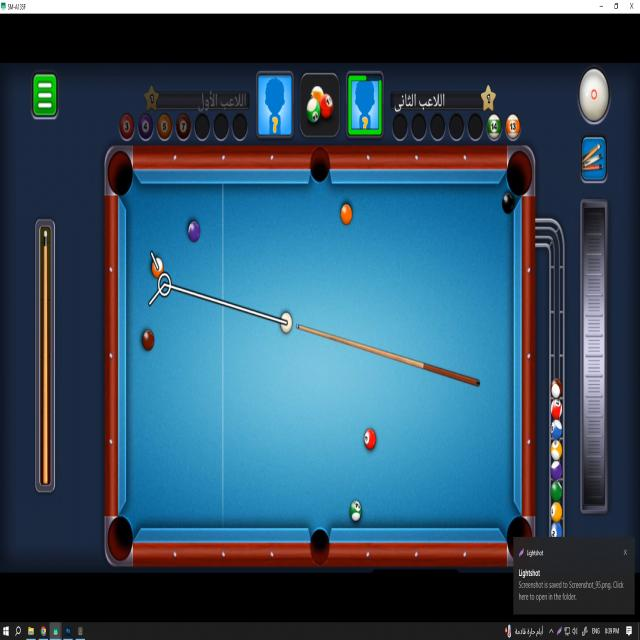object_ball: (502, 192, 514, 213), (364, 429, 376, 449), (188, 222, 200, 242), (341, 204, 352, 225), (350, 501, 361, 522), (143, 330, 154, 350), (152, 257, 163, 277)
white_cue_ball: (281, 313, 292, 333)
